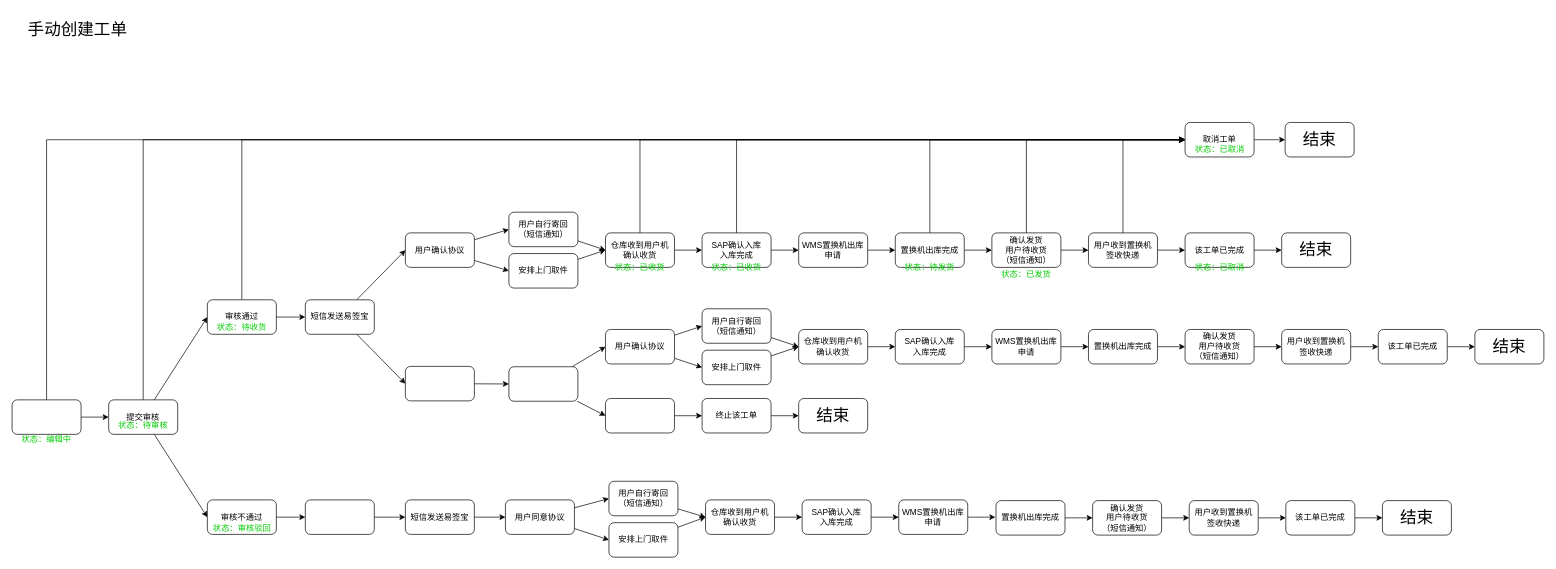
Image size: 1556x569. Some labels were removed from this diagram. The shapes that lost their labels are listed below. From the top down, each one's centre as x and y in pixels, then its label:
the point at 439,383: 用户未确认协议
the point at 543,383: 客服联系客户
the point at 46,416: 创建工单 工单编辑页面 完成编辑
the point at 639,415: 用户拒绝协议
the point at 339,516: 重新编辑提交审核 审核通过
